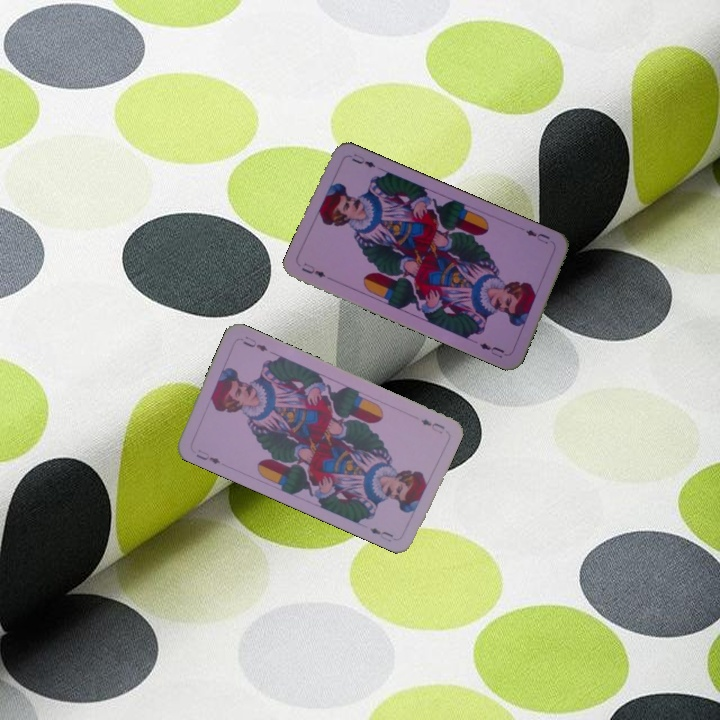EU: (521, 225, 552, 247), (192, 445, 223, 467), (298, 259, 328, 280), (417, 415, 447, 436)
